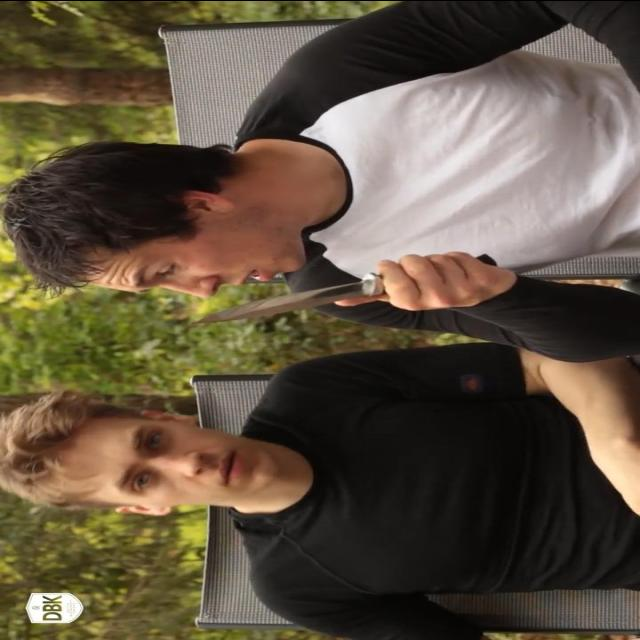Sharp-Object: (182, 242, 520, 328)
